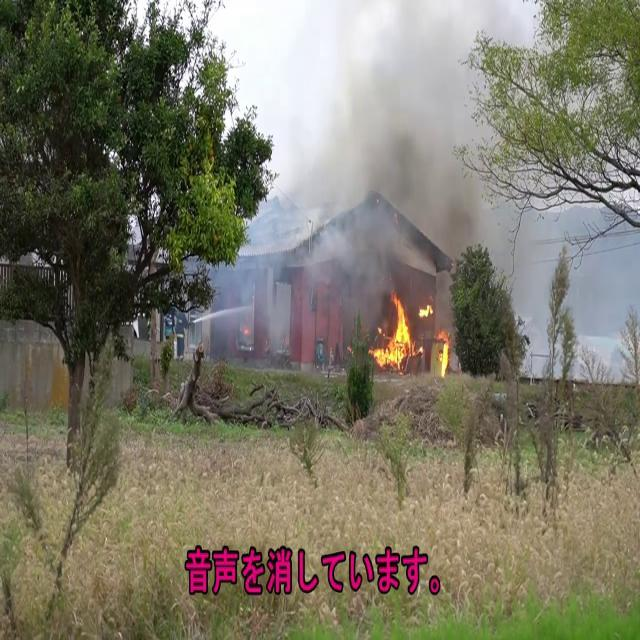Fire: (372, 290, 416, 370), (435, 324, 453, 378)
Smoke: (227, 2, 486, 342)
